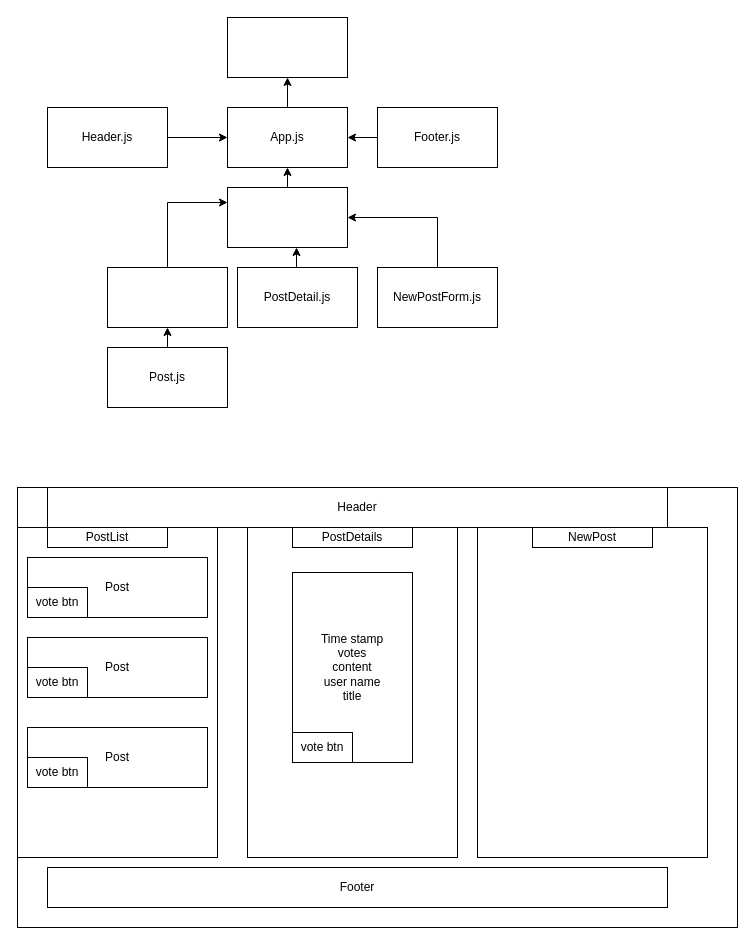
Some shapes in this 755 by 945 pixel diagram are drawn without their labels. Here are the shapes that lost their labels. From the top down, the centre of each, then its label:
At point (287, 47): "Provider".
At point (287, 217): "PostControl.js".
At point (167, 297): "PostList.js".
